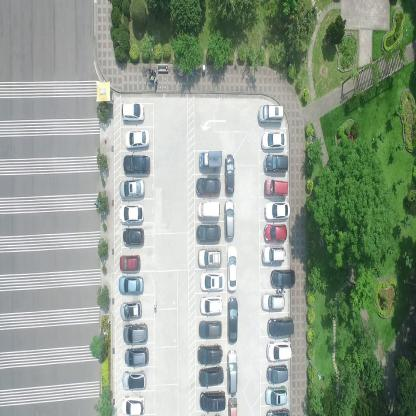car: (199, 389, 226, 413), (267, 340, 293, 364), (123, 154, 151, 176), (226, 348, 238, 398), (197, 342, 223, 365), (119, 178, 146, 200), (267, 316, 295, 337), (226, 296, 238, 344), (123, 323, 149, 345), (257, 104, 284, 125), (226, 245, 238, 292), (198, 318, 223, 340), (118, 300, 143, 322), (124, 345, 149, 367), (122, 370, 147, 392), (199, 271, 225, 292), (198, 367, 224, 388), (120, 101, 146, 122), (121, 394, 146, 415), (261, 130, 287, 150), (261, 244, 287, 264), (195, 176, 221, 196), (264, 202, 291, 221), (223, 153, 235, 195), (199, 295, 223, 316), (125, 128, 150, 148), (119, 204, 144, 224), (118, 276, 144, 295), (269, 269, 296, 287), (122, 226, 144, 248), (261, 292, 286, 311), (224, 198, 235, 240), (266, 364, 289, 384), (119, 253, 142, 273), (197, 199, 221, 218), (198, 247, 222, 266), (263, 224, 288, 242), (198, 150, 223, 168), (265, 386, 287, 406), (264, 154, 288, 172), (264, 178, 288, 196), (196, 224, 220, 242), (265, 407, 291, 415), (228, 398, 238, 416)
